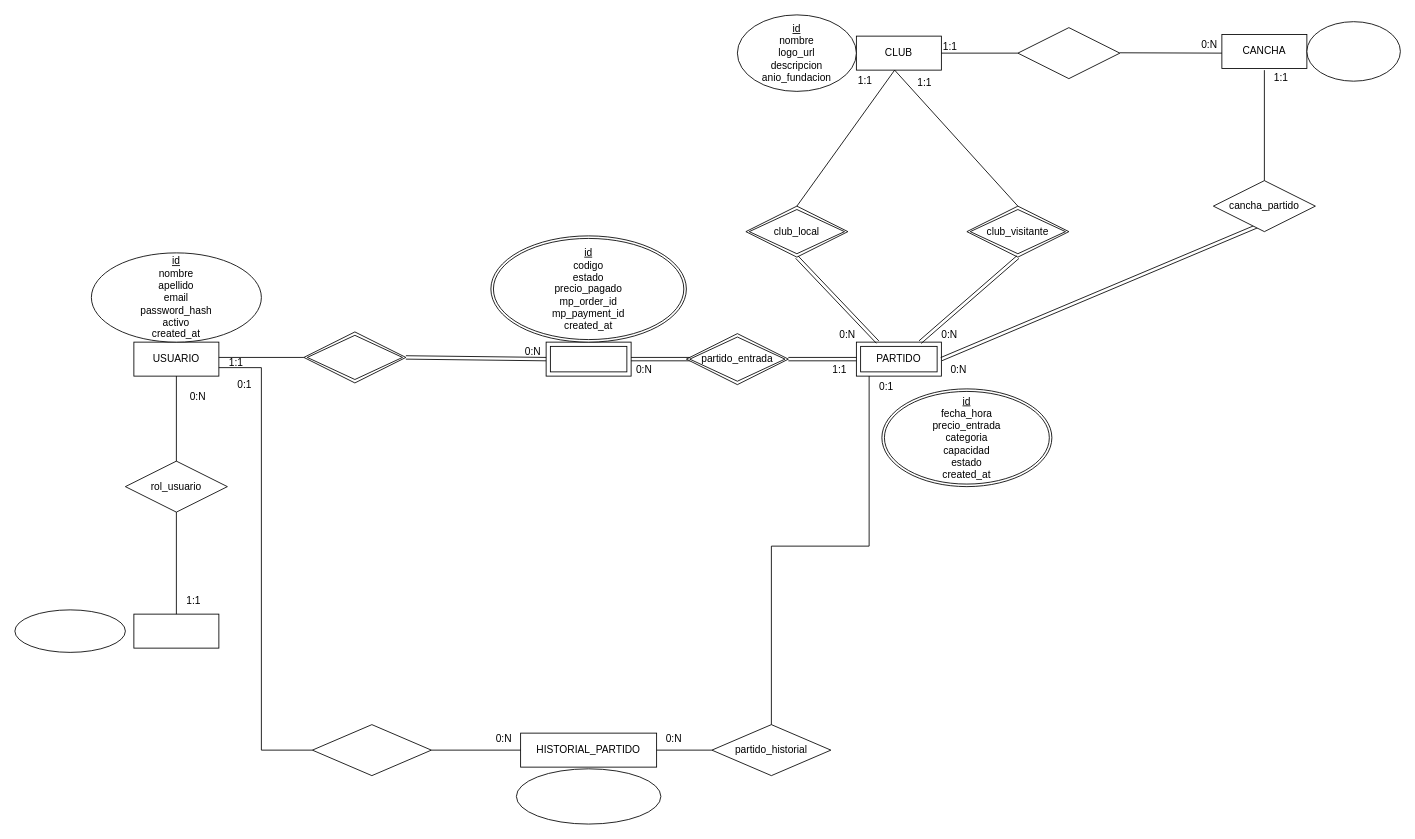
The diagram is 1415 pixels wide and 839 high, and some of its shapes have lost their labels. Each missing label, with the box of its shape:
club_cancha: (1017, 27, 1120, 79)
ENTRADA: (545, 341, 631, 376)
id descripcion created_at: (516, 768, 661, 824)
id nombre: (14, 609, 125, 652)
id nombre direccion capacidad: (1306, 21, 1400, 81)
ROL: (133, 613, 219, 648)
usuario_entrada: (303, 331, 406, 383)
usuario_historial: (312, 724, 431, 776)
